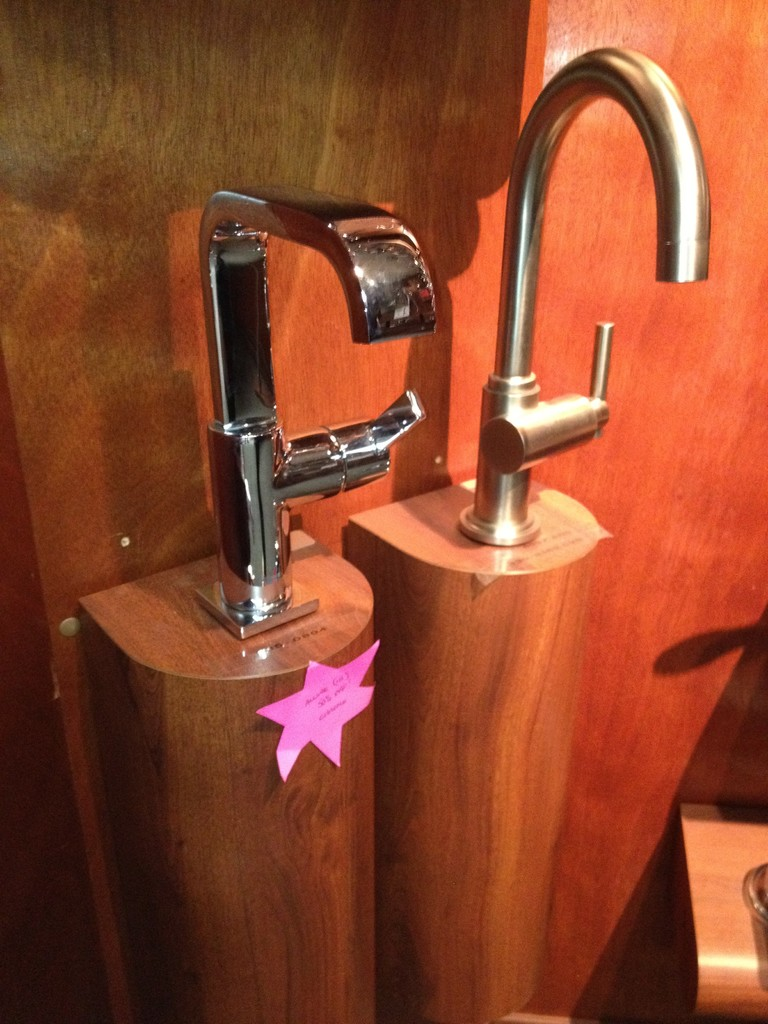tap: (431, 37, 721, 605), (182, 191, 444, 649)
